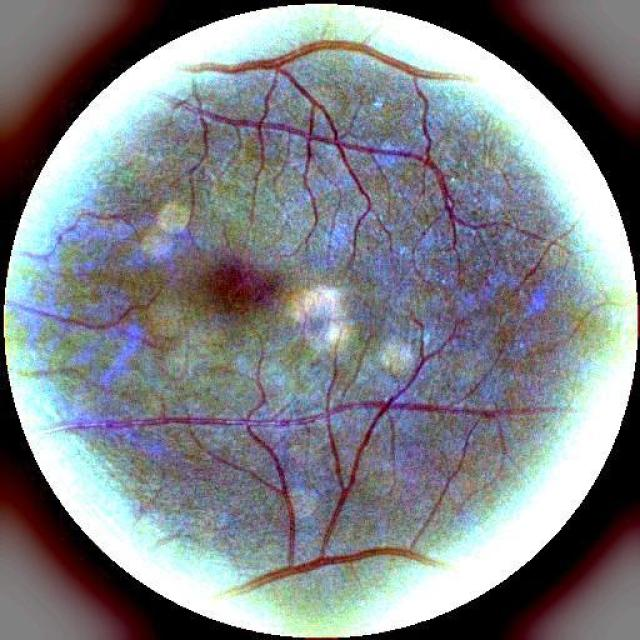Macula: (212, 259, 274, 305)
Nerves: (184, 40, 469, 80), (221, 548, 439, 594)
